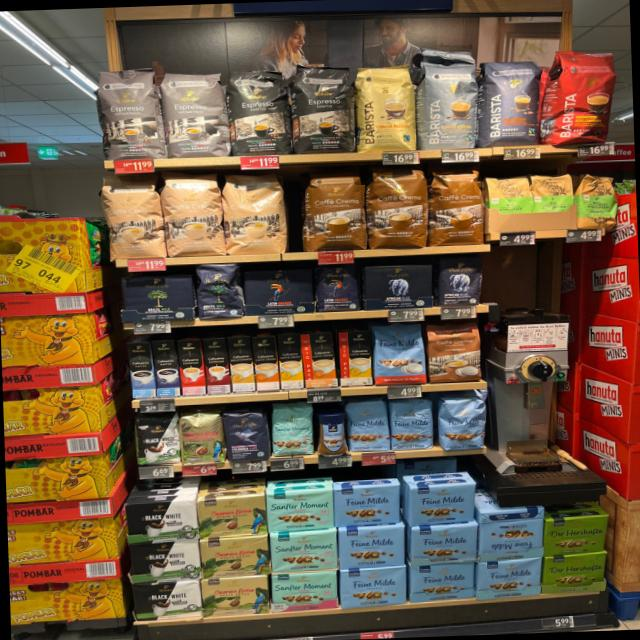AB Bohne: (431, 252, 485, 307)
AB Gemahlen: (362, 264, 433, 310)
Athiopien Bohne: (570, 172, 622, 230)
Athiopien Gemahlen: (483, 174, 532, 231), (528, 173, 574, 228)
BM Bohne: (194, 262, 244, 321)
BM Gemahlen: (120, 274, 194, 320)
BW Bohne: (133, 413, 180, 468)
BW Gemahlen: (125, 498, 198, 544), (129, 540, 201, 584), (131, 578, 202, 622)
Barista CB: (350, 63, 420, 152)
Barista CC: (411, 60, 477, 150)
Barista Espresso: (474, 60, 544, 146)
Barista Kolumbien: (538, 48, 618, 148)
C Fino Bohne: (222, 402, 270, 458)
CC Mild: (99, 174, 168, 261), (220, 172, 288, 256), (158, 173, 226, 257)
CC Vollmundig: (424, 316, 483, 384)
CC Vollmundig 36 Pads: (363, 168, 430, 250), (300, 174, 368, 252), (424, 166, 487, 248)
Colombia BB Bohne: (177, 409, 226, 464)
Colombia BB Gemahlen: (196, 494, 268, 540), (198, 535, 271, 580), (200, 575, 270, 618)
Espresso Aromatisch: (96, 65, 169, 161), (155, 68, 231, 160)
Espresso Kraftig: (286, 62, 358, 156), (221, 68, 292, 154)
FM 36 Pads: (369, 321, 427, 386)
FM Bohne: (434, 394, 486, 451), (388, 396, 435, 450), (346, 400, 391, 453)
FM Gemahlen: (408, 482, 476, 527), (338, 565, 407, 609), (337, 525, 406, 569), (333, 483, 401, 527), (475, 557, 543, 601), (477, 519, 543, 562), (408, 524, 478, 564), (408, 562, 476, 603)
FM Instant: (315, 410, 349, 458)
Herzhatfe Mundig: (542, 513, 610, 555), (541, 552, 607, 595)
LG Bohne: (312, 262, 362, 314)
LG Gemahlen: (242, 268, 313, 314)
SM Bohne: (269, 402, 315, 457)
SM Gemahlen: (265, 488, 335, 533), (269, 570, 339, 614), (268, 529, 338, 573)
Simo CCMild: (336, 331, 372, 386)
Simo CCMild bigpack: (276, 334, 304, 389)
Simo CCVollmundig: (300, 333, 339, 389)
Simo CCVollmundig bigpack: (252, 335, 280, 391)
Simo Decaff: (228, 334, 257, 392)
Simo Es Elegant: (177, 339, 206, 395)
Simo Es Kraft: (201, 336, 231, 392)
Simo Kaffee Kraft: (150, 338, 181, 396)
Simo Kaffee Mild: (126, 340, 156, 398)
